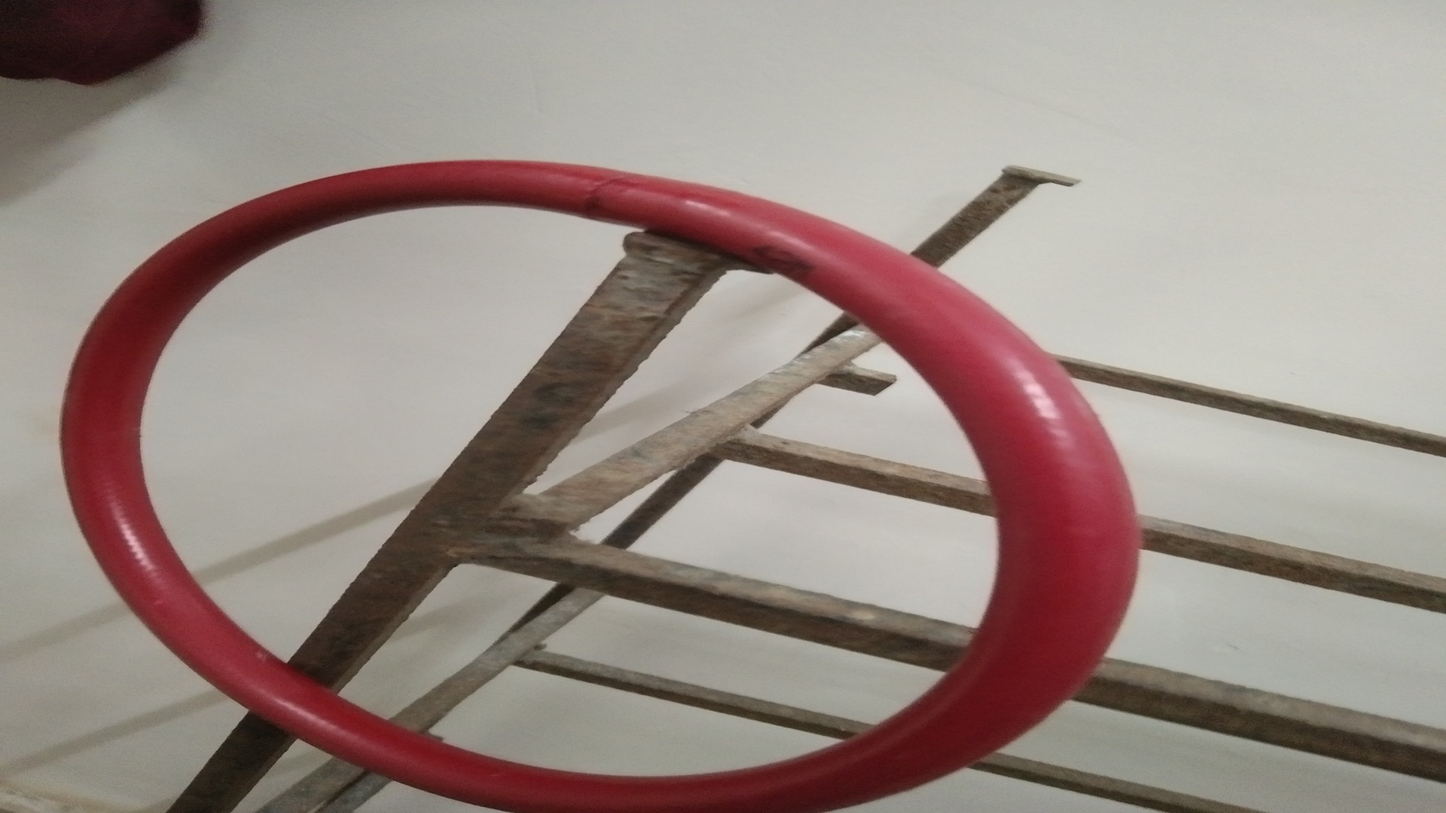Red ring: (68, 162, 1142, 810)
